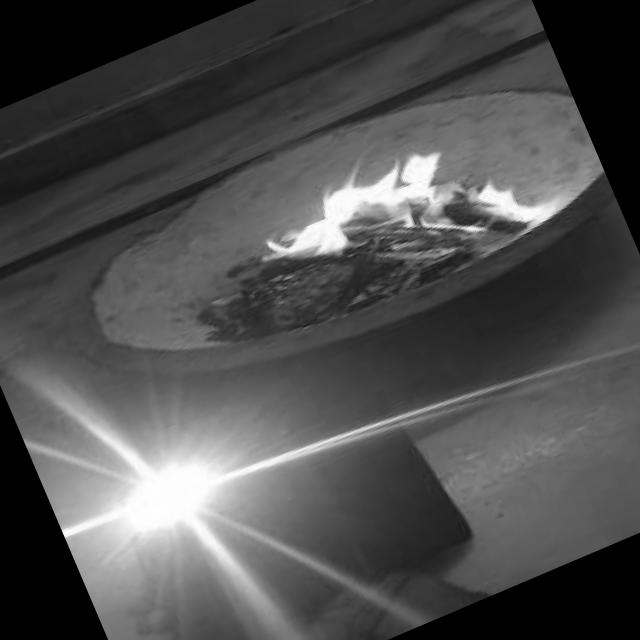fire: (232, 100, 539, 318)
